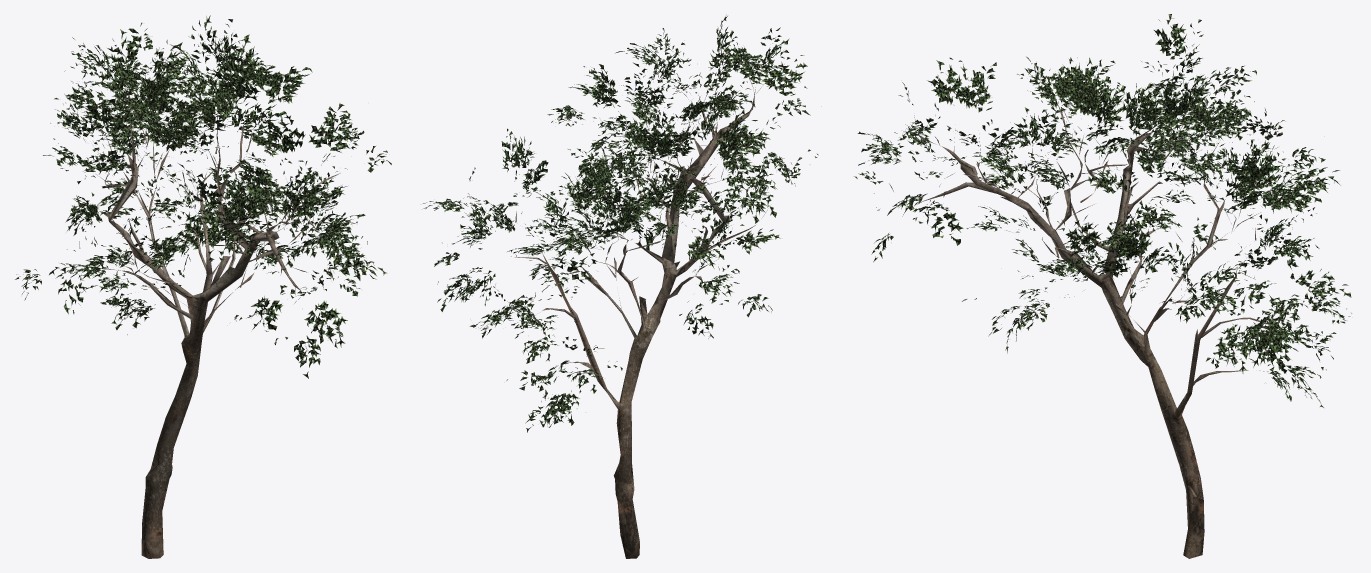
File: tree_small_02.glb
3 views of the same model, side by side, from view 1: azimuth 30°, elevation 25°; view 2: azimuth 150°, elevation 25°; view 3: azimuth 270°, elevation 25° (orthographic). The views are drawn at different scales.
Visible parts, largest first — view 1: tree_small_02_LOD0; view 2: tree_small_02_LOD0; view 3: tree_small_02_LOD0.
Part boxes in pixels (left/top/right/bottom): tree_small_02_LOD0: left=15, top=15, right=391, bottom=558; tree_small_02_LOD0: left=423, top=14, right=821, bottom=558; tree_small_02_LOD0: left=854, top=14, right=1351, bottom=558.
Size of the model in its own units: 2.88 by 4.54 by 4.14.
3 materials, 3 textured.
